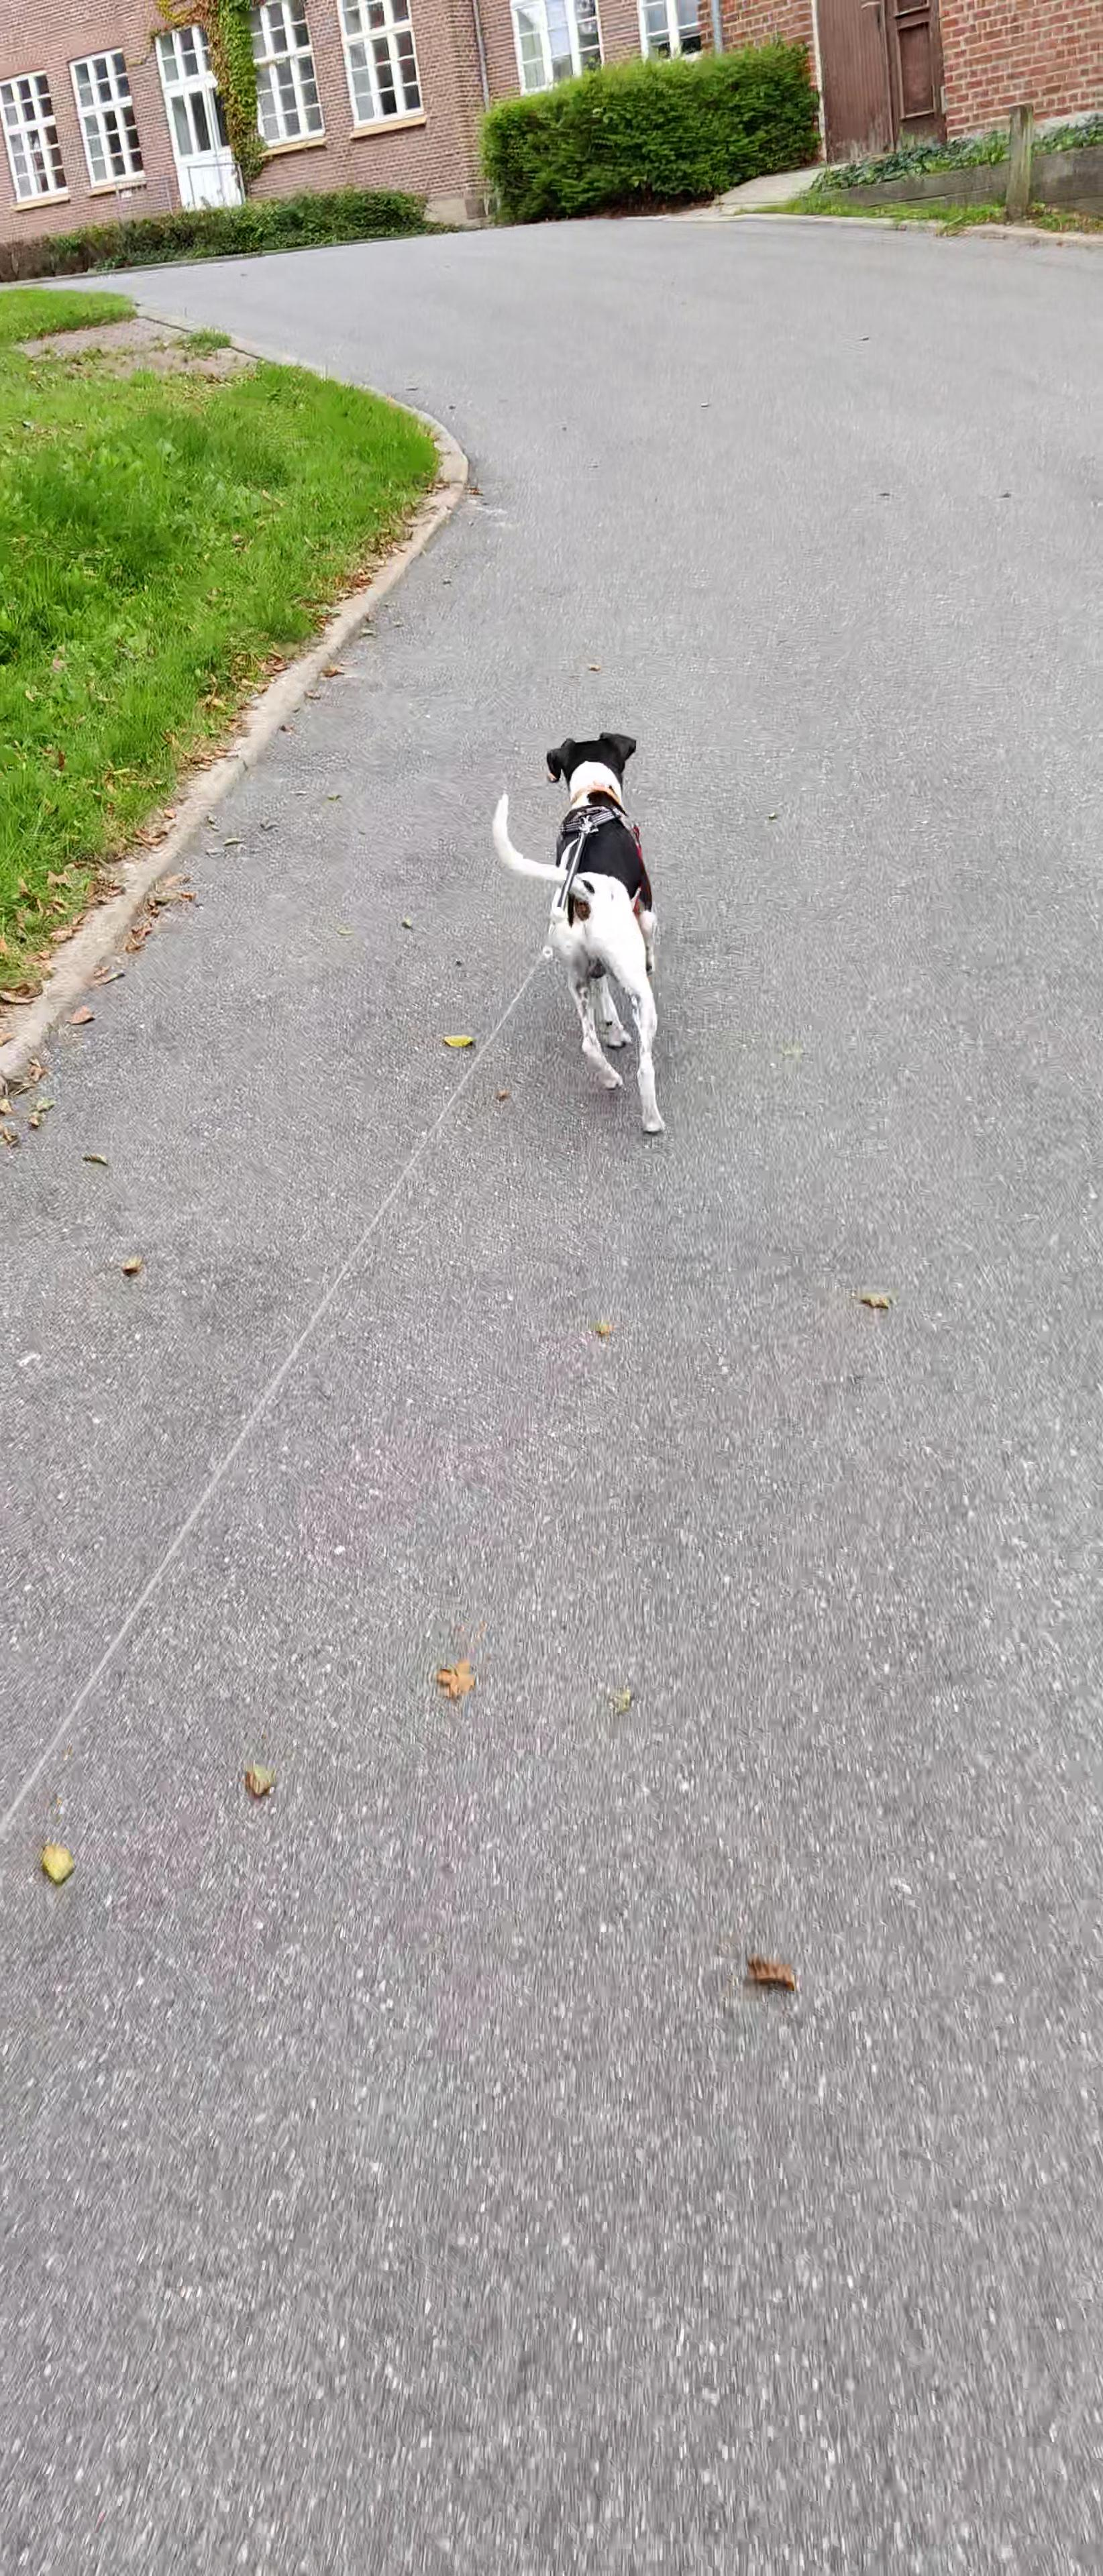Dog: (492, 726, 687, 1142)
